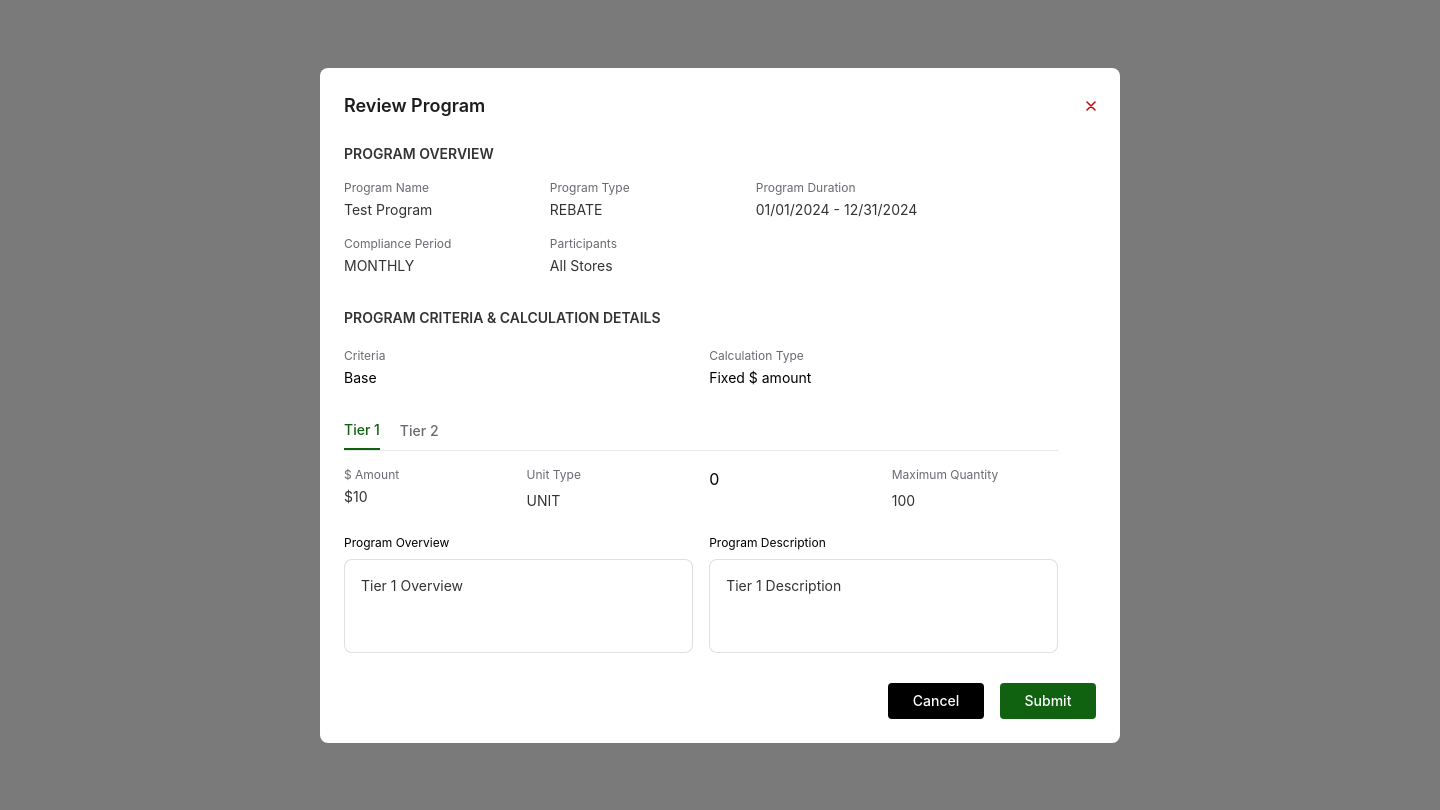
it: ReviewPopup › handles multiple tiers
The image size is (1440, 810).
Check: the button "Tier 1" is shown, box [344,412,380,450]
Check: the 1st text box "Tier 1 Overview" is shown, box [344,558,693,652]
Click on tier 2 to check its details
Click the button "Tier 2". click: (419, 430)
box: [400,412,439,450]
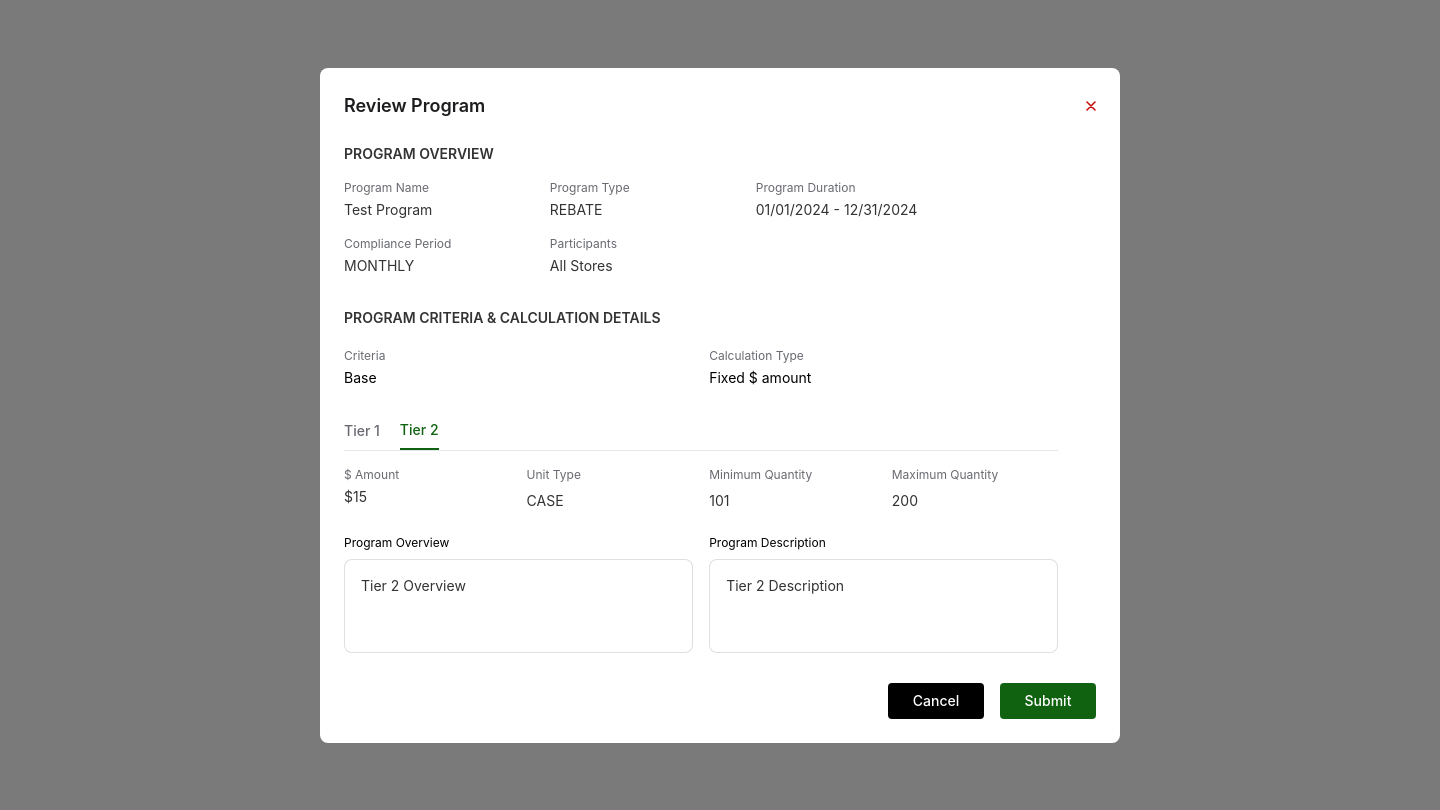
Check: the 1st text box "Tier 2 Overview" is shown, box [344,558,693,652]
Check: the text box "Tier 2 Description" below "Program Description" is shown, box [709,558,1058,652]
Check: the text "$15" is shown, box [344,488,367,504]
